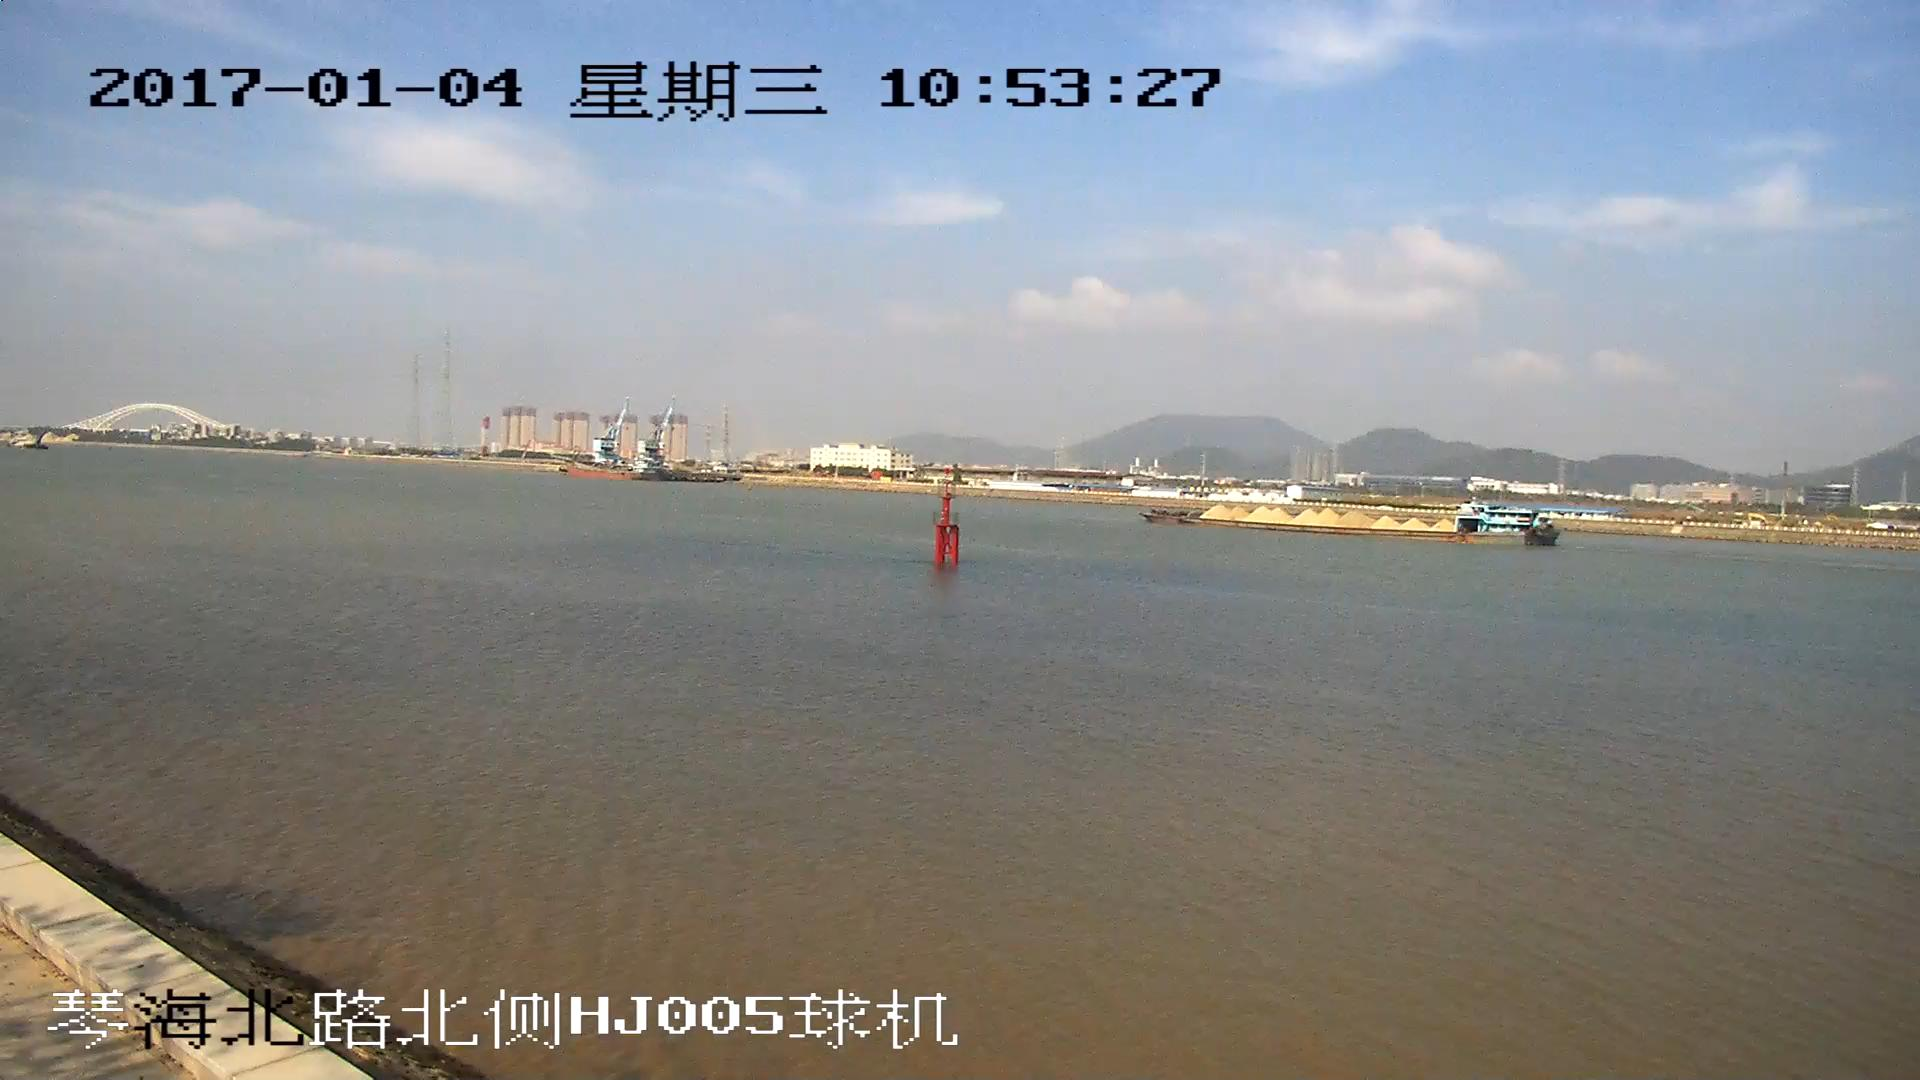ore carrier: (1148, 501, 1557, 549)
